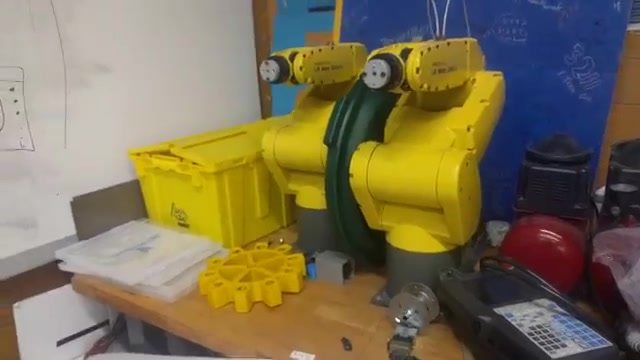gear: (195, 236, 305, 315)
